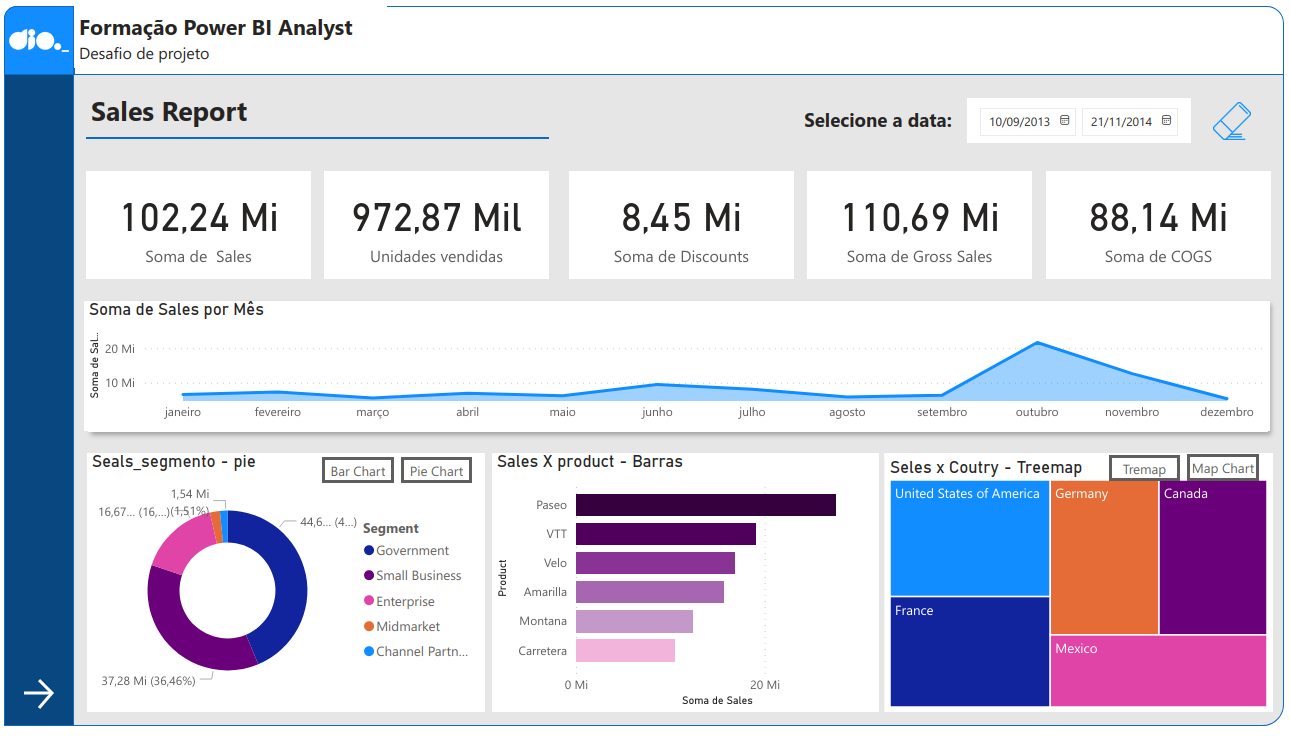

This screenshot's page, from the dashboard's own definition file:
{"tool":"powerbi","page":{"name":"Página 1","canvas":[1280,720],"ordinal":0},"visuals":[{"type":"group","id":"g1","title":"Backgoud","box":[0,0,1280,720],"z":0},{"type":"shape","box":[0,0,1280,720],"z":0,"group":"g1"},{"type":"textbox","box":[82,81,189,51],"z":0,"group":"g7"},{"type":"image","title":"eraser","box":[1204,89,48,51],"z":0,"group":"g3"},{"type":"shape","box":[82,165,225,108],"z":0,"group":"g2"},{"type":"shape","box":[75.4,285.5,1197.9,149],"z":0,"group":"g6"},{"type":"donutChart","title":"Seals_segmento - pie","fields":{"Y":["Sum(financials. Sales)"],"Category":["financials.Segment"]},"box":[83.3,446.9,398.1,258.9],"z":0,"group":"g4"},{"type":"shape","box":[880,447,389.4,258.8],"z":0,"group":"g5"},{"type":"shape","box":[0,0,70,720],"z":1000,"group":"g1"},{"type":"slicer","fields":{"Values":["financials.Date"]},"box":[962.9,92.2,223.4,44.3],"z":1000,"group":"g3"},{"type":"shape","box":[82,115,463,34],"z":1000,"group":"g7"},{"type":"group","id":"g2","title":"Cards","box":[82,165,1185,108],"z":1000},{"type":"shape","box":[320,165,225,108],"z":1000,"group":"g2"},{"type":"areaChart","fields":{"Category":["financials.Date.Variation.Hierarquia de datas.Mês"],"Y":["Sum(financials. Sales)"]},"box":[80.7,294.4,1185.5,130.3],"z":1000,"group":"g6"},{"type":"map","title":"Soma de  Sales por Country","fields":{"Category":["financials.Country"],"Size":["Sum(financials. Sales)"]},"box":[880,453.2,387.5,252.5],"z":1000,"group":"g5"},{"type":"shape","box":[0,0,70,69],"z":2000,"group":"g1"},{"type":"actionButton","box":[1204.1,92.2,47.9,47.9],"z":2000,"group":"g3"},{"type":"shape","box":[565,165,225,108],"z":2000,"group":"g2"},{"type":"clusteredBarChart","title":"Sales X product - Barras","fields":{"Y":["Sum(financials. Sales)"],"Category":["financials.Product"]},"box":[488,447,387,259],"z":2000},{"type":"actionButton","title":"Botão - Bar","box":[318.4,451.1,71.2,26.2],"z":2000,"group":"g4"},{"type":"treemap","title":"Seles x Coutry - Treemap","fields":{"Group":["financials.Country"],"Values":["Sum(financials. Sales)"]},"box":[880.6,453.2,387,252.5],"z":2000,"group":"g5"},{"type":"image","title":"Logo_dio","box":[0,9,70,51],"z":3000,"group":"g1"},{"type":"textbox","box":[785.6,94.9,176.5,39.9],"z":3000,"group":"g3"},{"type":"shape","box":[803,165,225,108],"z":3000,"group":"g2"},{"type":"actionButton","title":"Botão","box":[1183.4,448.4,71.7,26.7],"z":3000,"group":"g5"},{"type":"actionButton","title":"Botão","box":[1185.5,449.1,70.9,26.4],"z":3000},{"type":"actionButton","title":"Botão - Pie","box":[396.7,450.5,71.7,26.7],"z":3000,"group":"g4"},{"type":"shape","box":[70,0,1210,69],"z":4000,"group":"g1"},{"type":"group","id":"g3","title":"Filtro_por_data","box":[785.6,89,466.4,51.1],"z":4000},{"type":"shape","box":[1042,165,225,108],"z":4000,"group":"g2"},{"type":"actionButton","title":"Botão","box":[1105,448.9,71.2,26.2],"z":4000,"group":"g5"},{"type":"textbox","box":[70,0,313,62],"z":5000,"group":"g1"},{"type":"card","fields":{"Values":["Sum(financials.Discounts)"]},"box":[565,165,225,108],"z":5000,"group":"g2"},{"type":"group","id":"g4","title":"Sales x segmento","box":[83,446.9,398.5,261],"z":5000},{"type":"card","fields":{"Values":["Sum(financials.COGS)"]},"box":[1042,165,225,108],"z":6000,"group":"g2"},{"type":"group","id":"g5","title":"Sales X country","box":[880,447,389.4,258.8],"z":6000},{"type":"card","fields":{"Values":["Sum(financials.Units Sold)"]},"box":[320,165,225,108],"z":7000,"group":"g2"},{"type":"group","id":"g6","title":"Sales x mes","box":[75.4,285.5,1197.9,149],"z":7000},{"type":"group","id":"g7","title":"Sales  report","box":[82,81,463,68],"z":8000},{"type":"card","fields":{"Values":["Sum(financials. Sales)"]},"box":[82,165,225,108],"z":8000,"group":"g2"},{"type":"card","fields":{"Values":["Sum(financials.Gross Sales)"]},"box":[803,165,225,108],"z":9000,"group":"g2"},{"type":"actionButton","title":"Seta","box":[14.2,667.7,40.8,39.9],"z":9000}]}

Visuals, with their boxes on the page's 1280x720 design canvas (x1, y1, x2, y2). These are canvas units, not pixel positions in the 1290x736 screenshot, which may show the page scaled, cropped or inside an application window:
"Backgoud" group: [left=0, top=0, right=1280, bottom=720]
shape: [left=0, top=0, right=1280, bottom=720]
textbox: [left=82, top=81, right=271, bottom=132]
"eraser" image: [left=1204, top=89, right=1252, bottom=140]
shape: [left=82, top=165, right=307, bottom=273]
shape: [left=75, top=286, right=1273, bottom=434]
"Seals_segmento - pie" donutChart: [left=83, top=447, right=481, bottom=706]
shape: [left=880, top=447, right=1269, bottom=706]
shape: [left=0, top=0, right=70, bottom=720]
slicer - financials.Date: [left=963, top=92, right=1186, bottom=136]
shape: [left=82, top=115, right=545, bottom=149]
"Cards" group: [left=82, top=165, right=1267, bottom=273]
shape: [left=320, top=165, right=545, bottom=273]
areaChart - financials.Date.Variation.Hierarquia de datas.Mês x Sum(financials. Sales): [left=81, top=294, right=1266, bottom=425]
"Soma de  Sales por Country" map: [left=880, top=453, right=1268, bottom=706]
shape: [left=0, top=0, right=70, bottom=69]
actionButton: [left=1204, top=92, right=1252, bottom=140]
shape: [left=565, top=165, right=790, bottom=273]
"Sales X product - Barras" clusteredBarChart: [left=488, top=447, right=875, bottom=706]
"Botão - Bar" actionButton: [left=318, top=451, right=390, bottom=477]
"Seles x Coutry - Treemap" treemap: [left=881, top=453, right=1268, bottom=706]
"Logo_dio" image: [left=0, top=9, right=70, bottom=60]
textbox: [left=786, top=95, right=962, bottom=135]
shape: [left=803, top=165, right=1028, bottom=273]
"Botão" actionButton: [left=1183, top=448, right=1255, bottom=475]
"Botão" actionButton: [left=1186, top=449, right=1256, bottom=476]
"Botão - Pie" actionButton: [left=397, top=450, right=468, bottom=477]
shape: [left=70, top=0, right=1280, bottom=69]
"Filtro_por_data" group: [left=786, top=89, right=1252, bottom=140]
shape: [left=1042, top=165, right=1267, bottom=273]
"Botão" actionButton: [left=1105, top=449, right=1176, bottom=475]
textbox: [left=70, top=0, right=383, bottom=62]
card - Sum(financials.Discounts): [left=565, top=165, right=790, bottom=273]
"Sales x segmento" group: [left=83, top=447, right=482, bottom=708]
card - Sum(financials.COGS): [left=1042, top=165, right=1267, bottom=273]
"Sales X country" group: [left=880, top=447, right=1269, bottom=706]
card - Sum(financials.Units Sold): [left=320, top=165, right=545, bottom=273]
"Sales x mes" group: [left=75, top=286, right=1273, bottom=434]
"Sales  report" group: [left=82, top=81, right=545, bottom=149]
card - Sum(financials. Sales): [left=82, top=165, right=307, bottom=273]
card - Sum(financials.Gross Sales): [left=803, top=165, right=1028, bottom=273]
"Seta" actionButton: [left=14, top=668, right=55, bottom=708]
